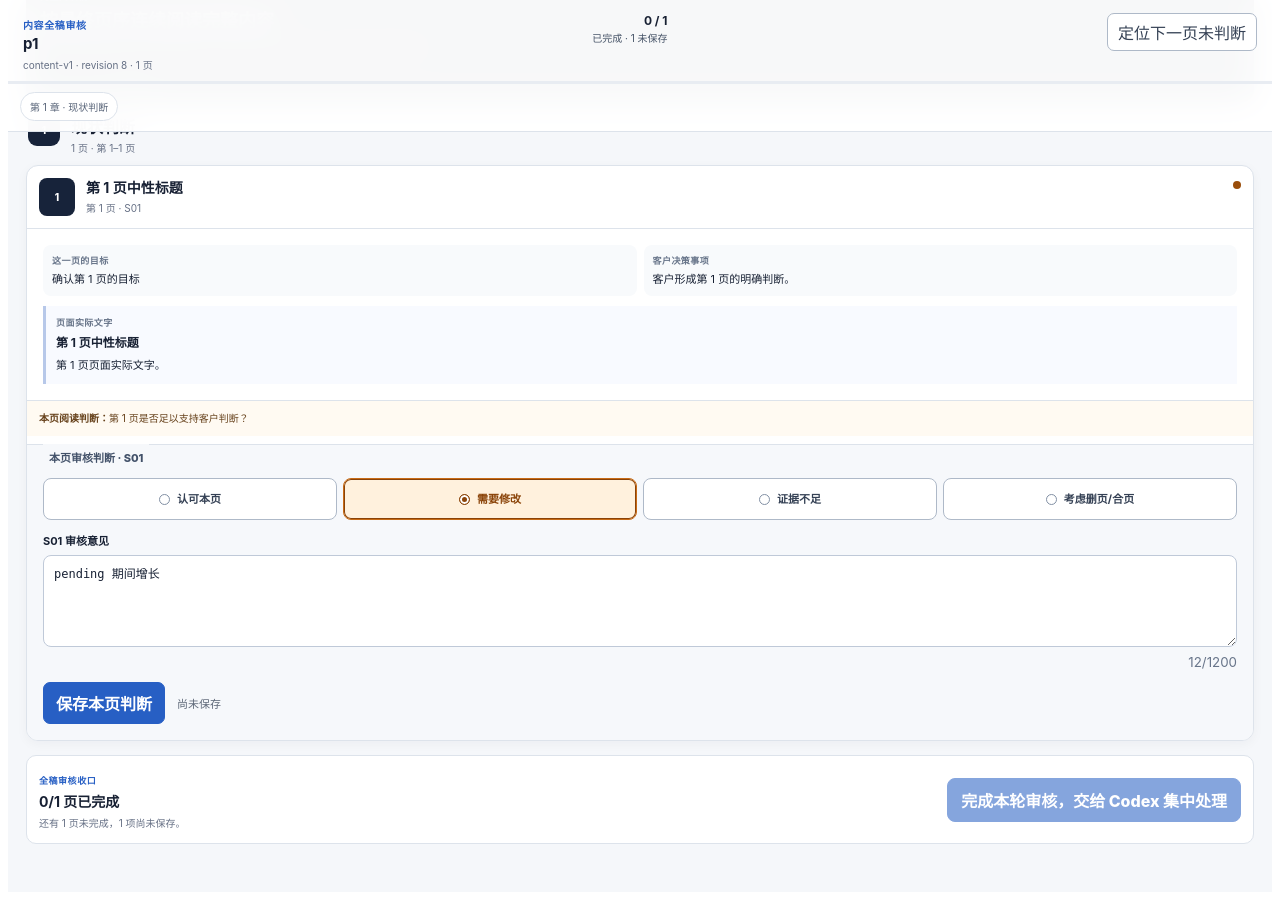
Test: ContentReviewViewModelController › ignores a pending page-save result after the same identity receives a newer revision
Later steps or results of the test are not shown.
(page scrolled)
Step 1. Click the button "保存本页判断" → (104, 703), box top-left (43, 682), bottom-right (165, 724)
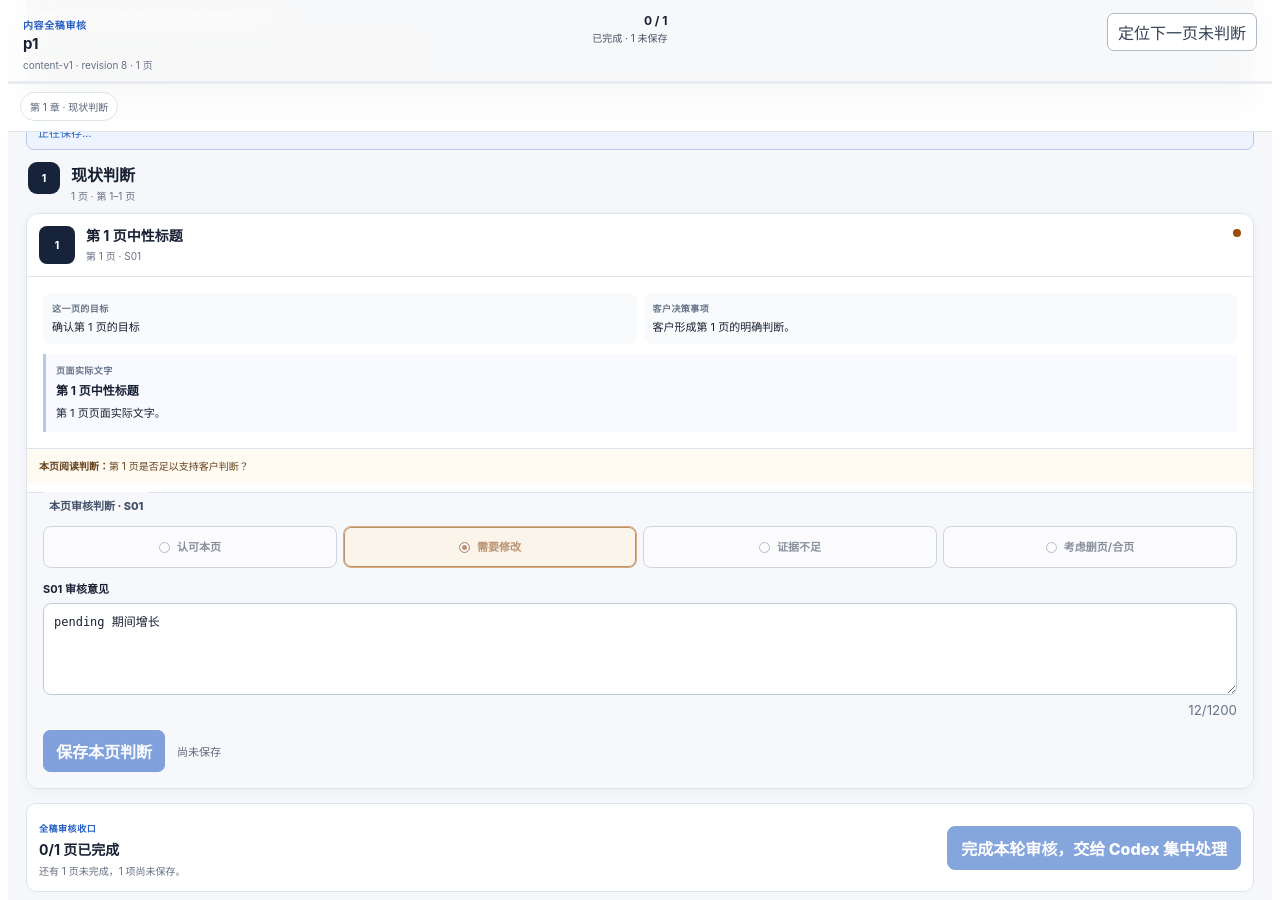
Now the text "正在保存…" is shown, box top-left (26, 114), bottom-right (1254, 150)
